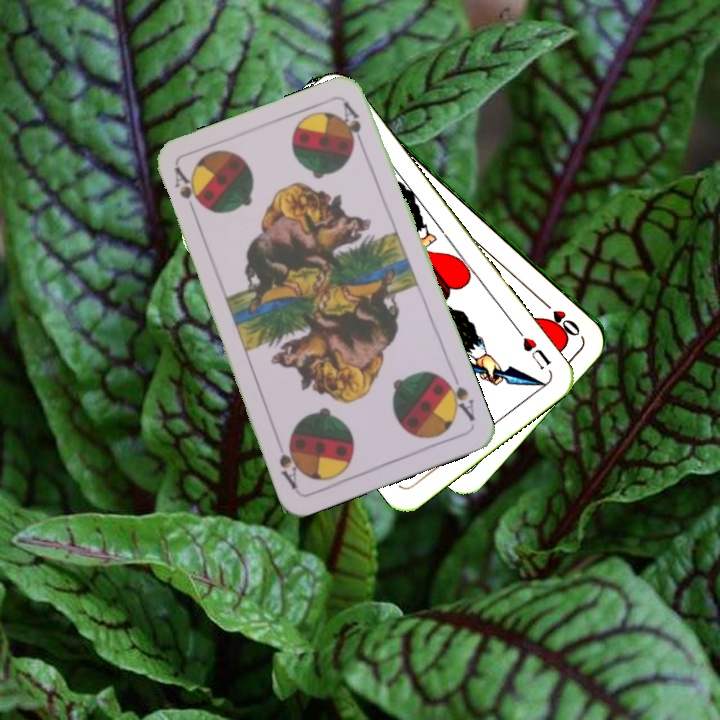HO: (536, 295, 583, 339)
HU: (512, 324, 554, 373)
SA: (438, 369, 477, 424), (169, 163, 203, 220)
